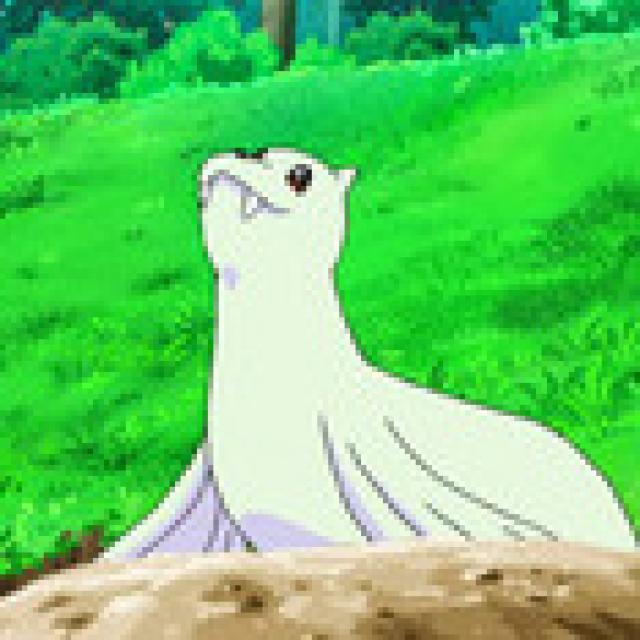Dewgong: (176, 140, 640, 559)
